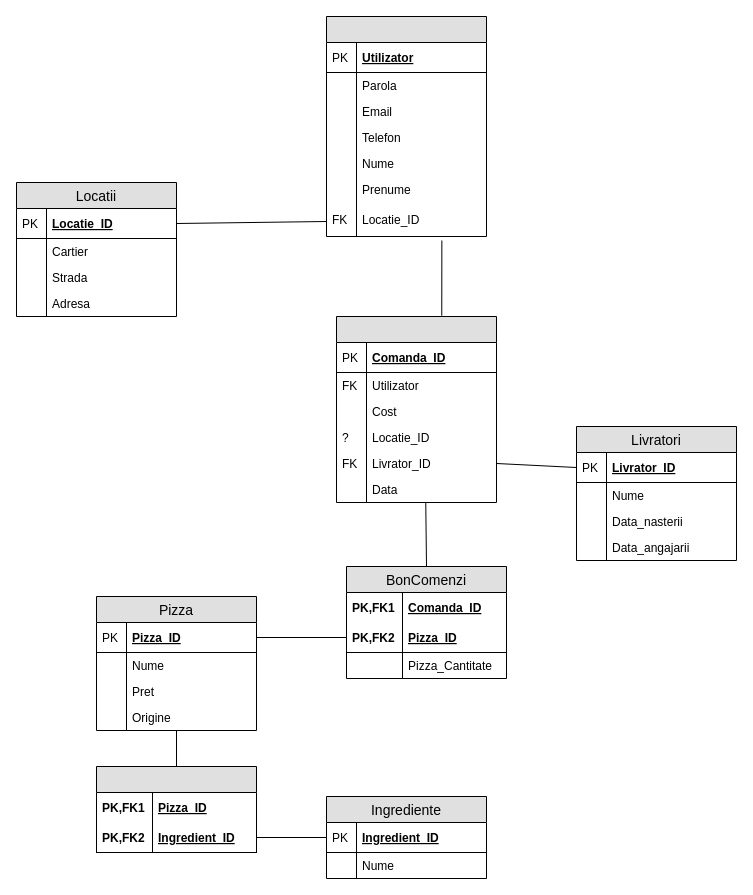
The diagram is 753 pixels wide and 895 high, and some of its shapes have lost their labels. The box of each missing label's shape, as (x1, y1, x2, y2) in pixels:
Comenzi: (336, 316, 496, 502)
IngredientPizza: (96, 766, 256, 852)
Utilizatori: (326, 16, 486, 236)
